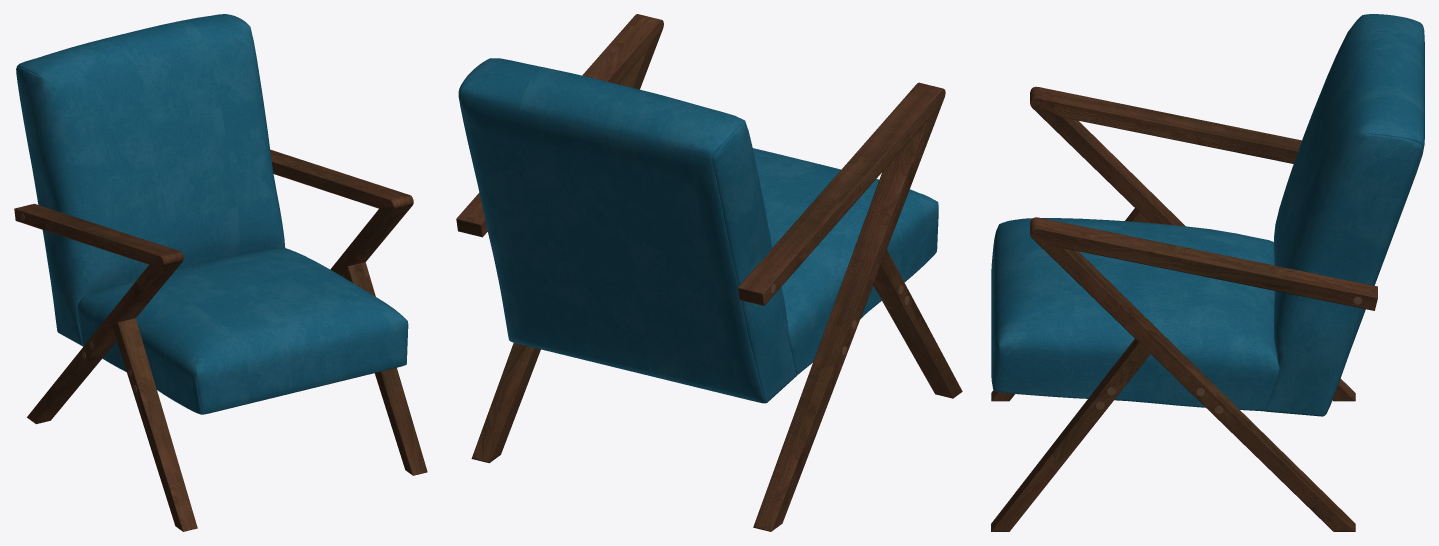
The model's file is chair.glb.
3 views of the same model, side by side, from view 1: azimuth 30°, elevation 25°; view 2: azimuth 150°, elevation 25°; view 3: azimuth 270°, elevation 25° (orthographic). The views are drawn at different scales.
Parts seen in each view (by area): view 1: Object_13, Object_16; view 2: Object_13, Object_16; view 3: Object_13, Object_16.
Part boxes in pixels (x1=…): Object_13: x1=16, y1=14, x2=408, y2=414; Object_16: x1=14, y1=149, x2=427, y2=531; Object_13: x1=458, y1=58, x2=938, y2=403; Object_16: x1=456, y1=14, x2=962, y2=531; Object_13: x1=991, y1=14, x2=1424, y2=416; Object_16: x1=991, y1=86, x2=1377, y2=531.
Size of the model in its own units: 62.1 by 81 by 79.99.
Materials: 3 (3 with a texture image).
